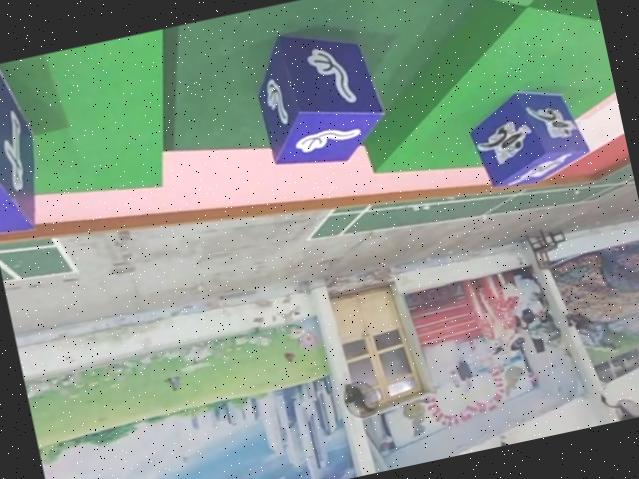R1 Blue: (464, 78, 598, 193)
R2 Real Blue: (245, 12, 393, 172), (0, 60, 49, 240), (0, 60, 48, 237)
